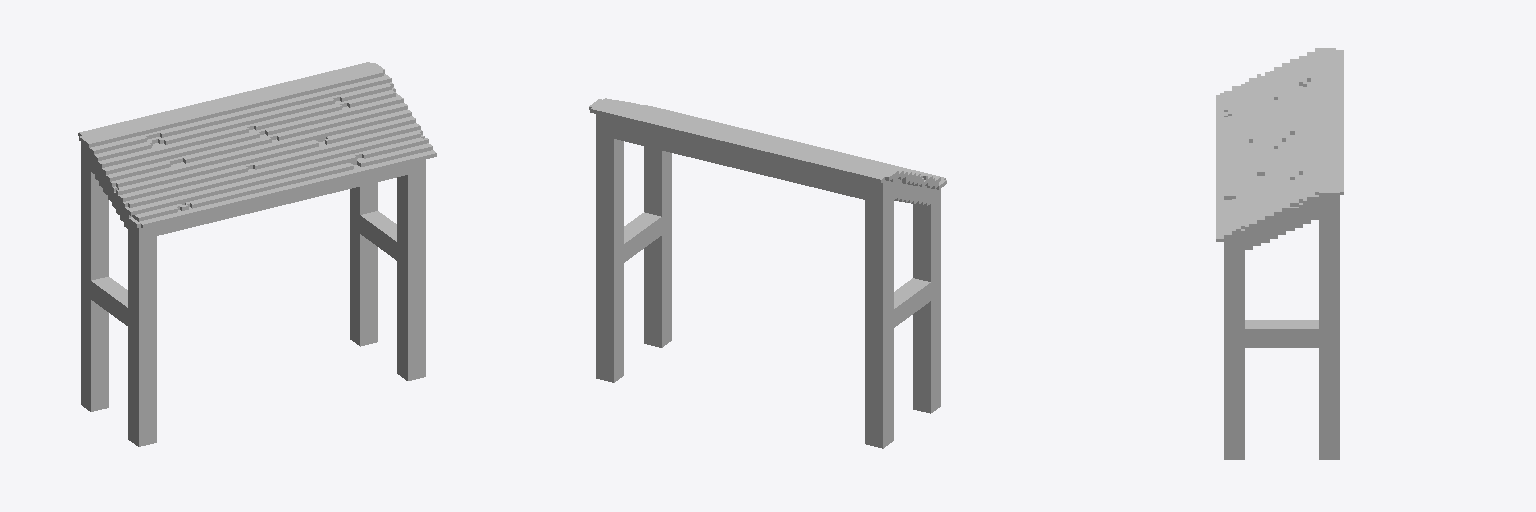
Rendered from Things-3-Wood Port.obj.
The picture shows the model from 3 angles: view 1: azimuth 30°, elevation 25°; view 2: azimuth 150°, elevation 25°; view 3: azimuth 270°, elevation 25°; orthographic projection.
Parts seen in each view (by area): view 1: Wood Port; view 2: Wood Port; view 3: Wood Port.
Part boxes in pixels (bbox=[...]): Wood Port: bbox=[78, 62, 436, 446]; Wood Port: bbox=[589, 98, 946, 448]; Wood Port: bbox=[1216, 48, 1343, 459].
Bounding box in the file's own units: 8.3 × 7.2 × 3.1.